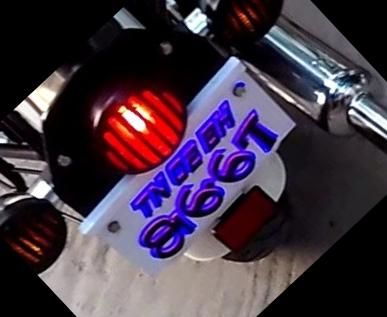plate: (76, 68, 309, 295)
